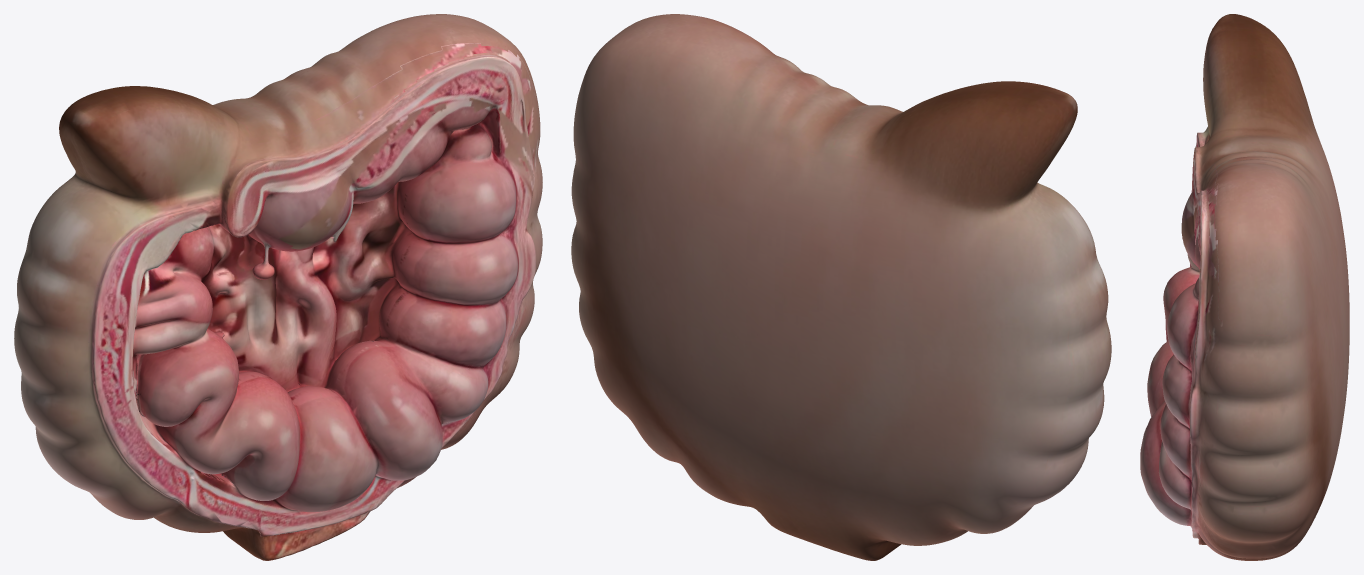
File: vet_v2_organ_horse_intestines.glb
3 views of the same model, side by side, from view 1: azimuth 30°, elevation 25°; view 2: azimuth 150°, elevation 25°; view 3: azimuth 270°, elevation 25° (orthographic). The views are drawn at different scales.
Visible parts, largest first — view 1: model; view 2: model; view 3: model.
Part boxes in pixels (x1,y1,x2,y2): model: (14, 14, 542, 560); model: (571, 14, 1111, 560); model: (1140, 14, 1349, 560).
Bounding box in the file's own units: 1.9 × 1.73 × 0.7542.
1 material, 1 textured.
